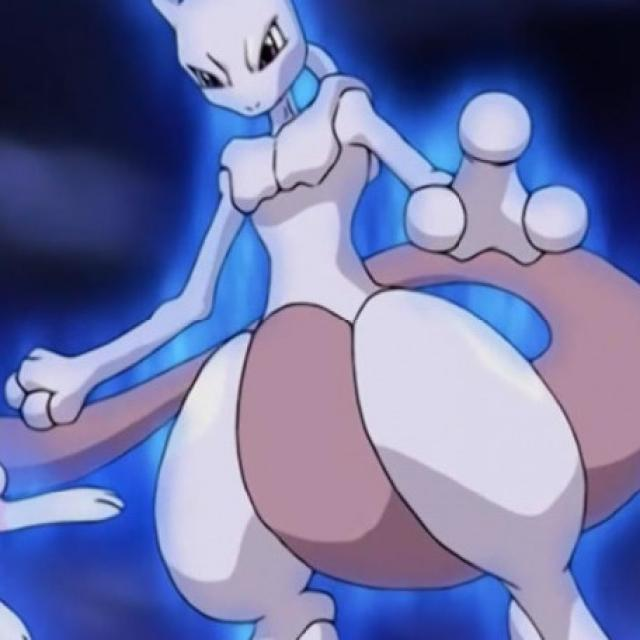Mewtwo: (138, 0, 592, 638)
